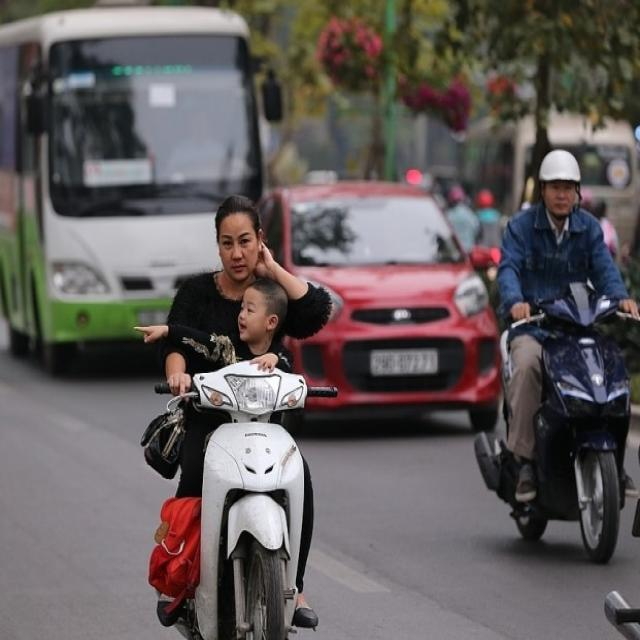no_helmet: (210, 184, 272, 288)
